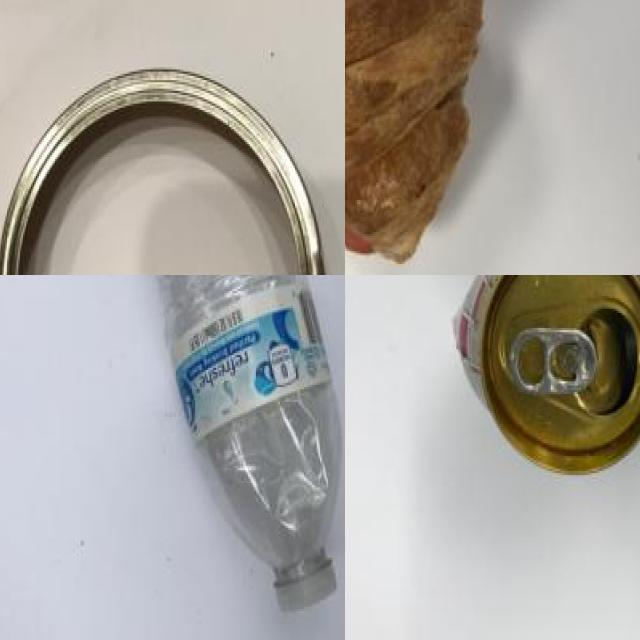compost: (345, 0, 511, 275)
plastic: (115, 275, 345, 622), (0, 44, 338, 275), (436, 275, 640, 483)
